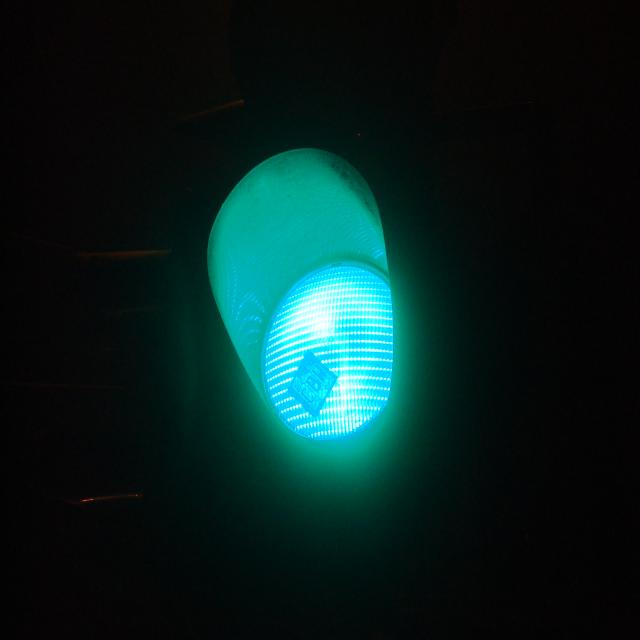green: (216, 152, 401, 438)
